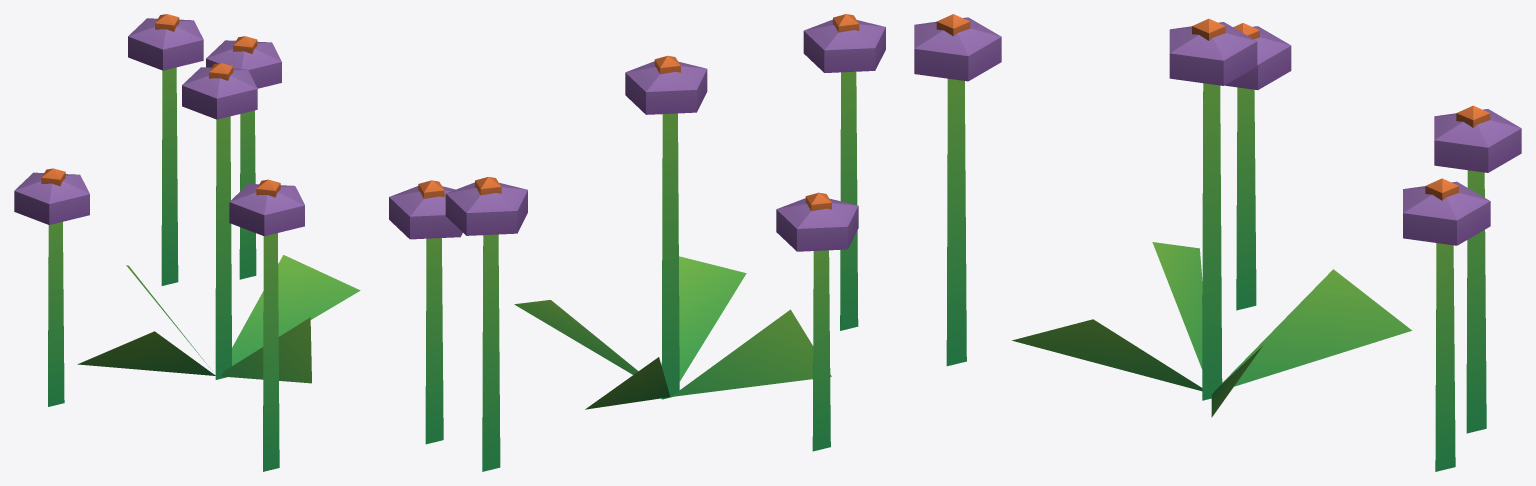
File: flowers_purple.glb
3 renders of one model, left to right at view 1: azimuth 30°, elevation 25°; view 2: azimuth 150°, elevation 25°; view 3: azimuth 270°, elevation 25°, orthographic. The views are drawn at different scales.
Parts seen in each view (by area): view 1: flowers_purple; view 2: flowers_purple; view 3: flowers_purple.
Boxes of the visible parts, bbox=[...] form: flowers_purple: bbox=[14, 14, 360, 471]; flowers_purple: bbox=[389, 14, 885, 471]; flowers_purple: bbox=[914, 14, 1521, 471].
Size of the model in its own units: 0.4246 by 0.373 by 0.544.
1 material, 1 textured.
